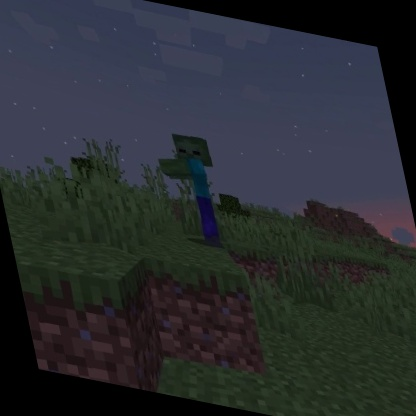zombie: (147, 125, 237, 255)
